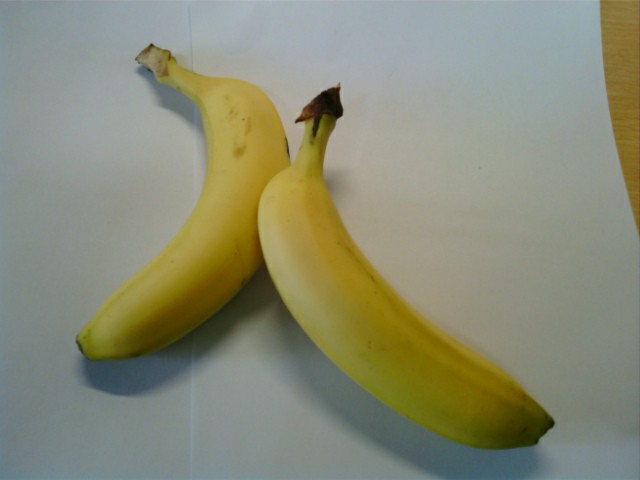fresh_banana: (258, 110, 545, 449), (79, 48, 290, 367)
